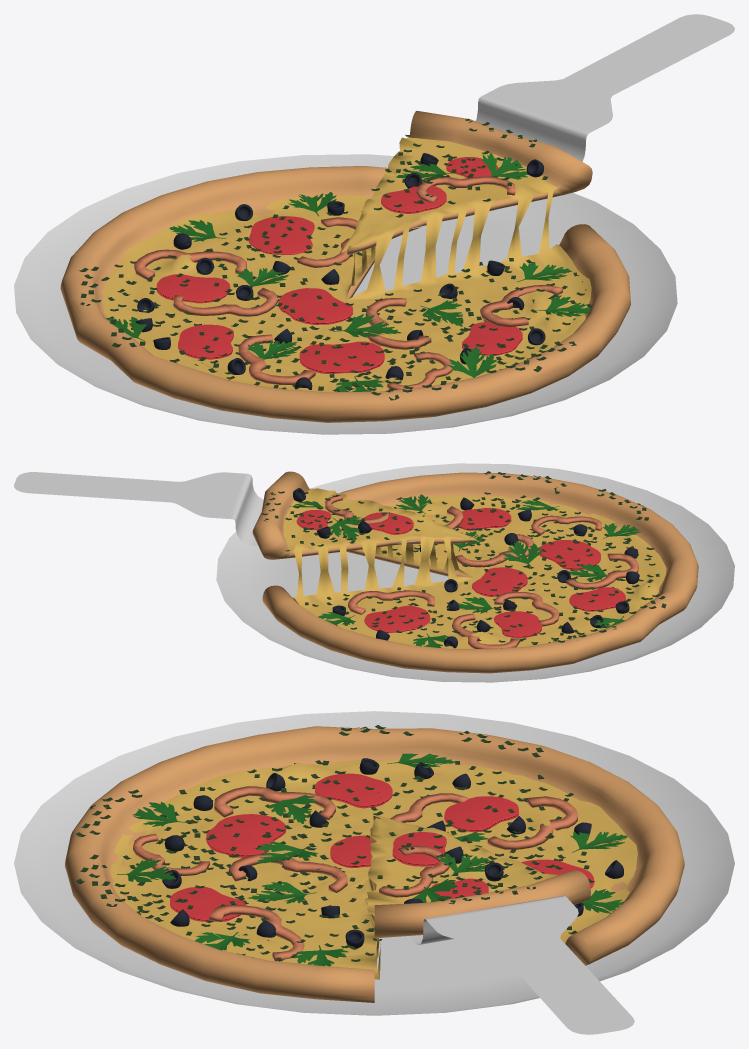
File: pizza.dae
The picture shows the model from 3 angles, top to bottom: view 1: azimuth 30°, elevation 25°; view 2: azimuth 150°, elevation 25°; view 3: azimuth 270°, elevation 25°; orthographic projection. The views are drawn at different scales.
Parts seen in each view (by area): view 1: cheese, dough, plate, metal, tomato_003, tomato_006, tomato_001, tomato_005, tomato_004, tomato_002, pepper_002, pepper_003 (+11 smaller); view 2: cheese, dough, plate, metal, tomato_003, tomato_006, tomato_001, tomato_005, tomato_004, tomato_002, pepper_004, pepper_002 (+10 smaller); view 3: dough, plate, cheese, metal, tomato_003, tomato_004, tomato_005, pepper_003, tomato_002, pepper_002, pepper, pepper_001 (+18 smaller).
Boxes of the visible parts, bbox=[...] form: cheese: bbox=[102, 137, 591, 392]; dough: bbox=[60, 111, 630, 422]; plate: bbox=[14, 154, 677, 434]; metal: bbox=[412, 14, 734, 228]; tomato_003: bbox=[299, 341, 384, 373]; tomato_006: bbox=[248, 216, 314, 254]; tomato_001: bbox=[278, 288, 352, 324]; tomato_005: bbox=[156, 274, 230, 303]; tomato_004: bbox=[178, 324, 233, 359]; tomato_002: bbox=[462, 321, 522, 355]; pepper_002: bbox=[238, 334, 315, 384]; pepper_003: bbox=[134, 249, 246, 279]; cheese: bbox=[283, 488, 666, 648]; dough: bbox=[252, 471, 698, 673]; plate: bbox=[216, 463, 734, 682]; metal: bbox=[14, 472, 415, 545]; tomato_003: bbox=[538, 540, 600, 570]; tomato_006: bbox=[364, 605, 430, 632]; tomato_001: bbox=[472, 567, 527, 596]; tomato_005: bbox=[494, 611, 541, 638]; tomato_004: bbox=[569, 587, 625, 611]; tomato_002: bbox=[459, 508, 511, 530]; pepper_004: bbox=[348, 590, 434, 614]; pepper_002: bbox=[566, 553, 638, 589]; dough: bbox=[65, 726, 684, 1002]; plate: bbox=[14, 711, 734, 1015]; cheese: bbox=[110, 759, 637, 979]; metal: bbox=[409, 895, 634, 1034]; tomato_003: bbox=[206, 814, 286, 857]; tomato_004: bbox=[314, 773, 392, 808]; tomato_005: bbox=[444, 796, 518, 832]; pepper_003: bbox=[487, 796, 577, 849]; tomato_002: bbox=[170, 887, 245, 921]; pepper_002: bbox=[214, 786, 335, 819]; pepper: bbox=[229, 853, 347, 892]; pepper_001: bbox=[209, 905, 304, 961].
Size of what is drawn, in the model's own units: 15.28 by 11.37 by 1.75.
